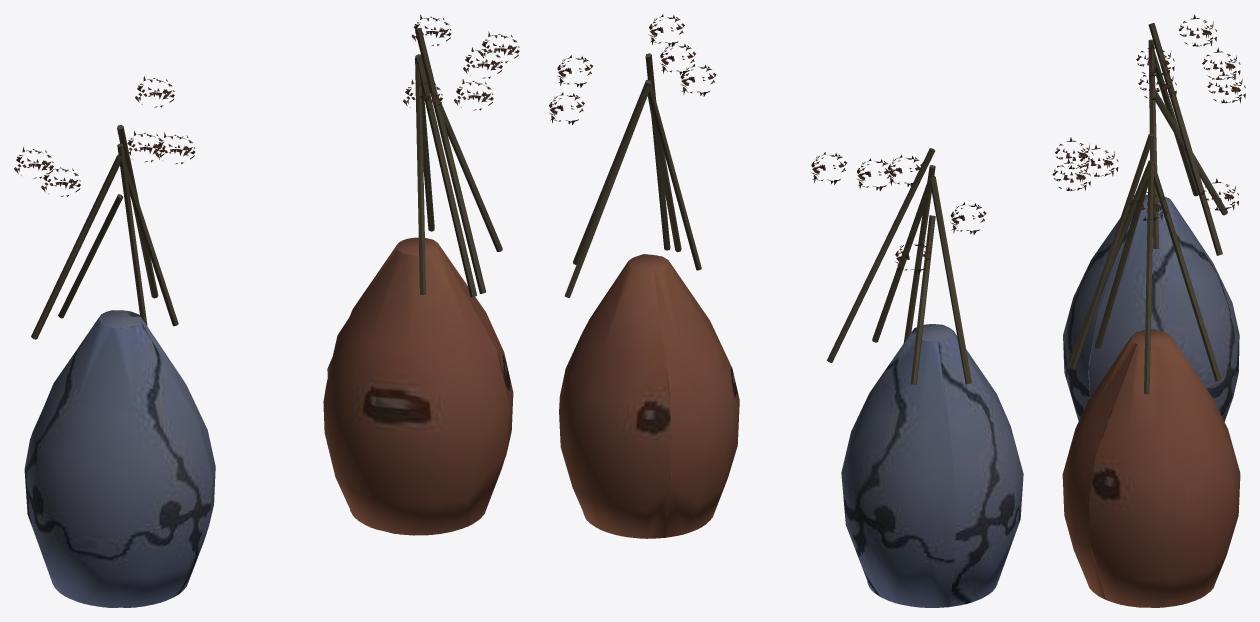
The model's file is L26_DeadFlowerVase.glb.
3 views of the same model, side by side, from view 1: azimuth 30°, elevation 25°; view 2: azimuth 150°, elevation 25°; view 3: azimuth 270°, elevation 25° (orthographic). The views are drawn at different scales.
Parts seen in each view (by area): view 1: L26_DeadFlowerVase; view 2: L26_DeadFlowerVase; view 3: L26_DeadFlowerVase.
Part boxes in pixels (<box>): L26_DeadFlowerVase: <box>14,14,519,607</box>; L26_DeadFlowerVase: <box>549,14,1023,607</box>; L26_DeadFlowerVase: <box>1052,14,1245,607</box>.
Size of the model in its own units: 0.3998 by 0.3832 by 0.1504.
Materials: 4 (4 with a texture image).
